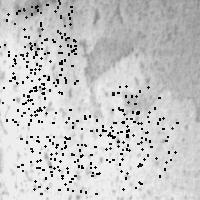pitted_surface: (2, 9, 185, 198), (16, 32, 76, 92), (4, 2, 61, 62), (64, 115, 122, 173), (36, 136, 95, 193), (17, 108, 74, 167), (22, 136, 81, 193), (117, 109, 176, 165), (14, 0, 74, 53), (102, 85, 158, 140), (0, 46, 44, 106), (0, 62, 43, 121), (120, 164, 172, 200)
